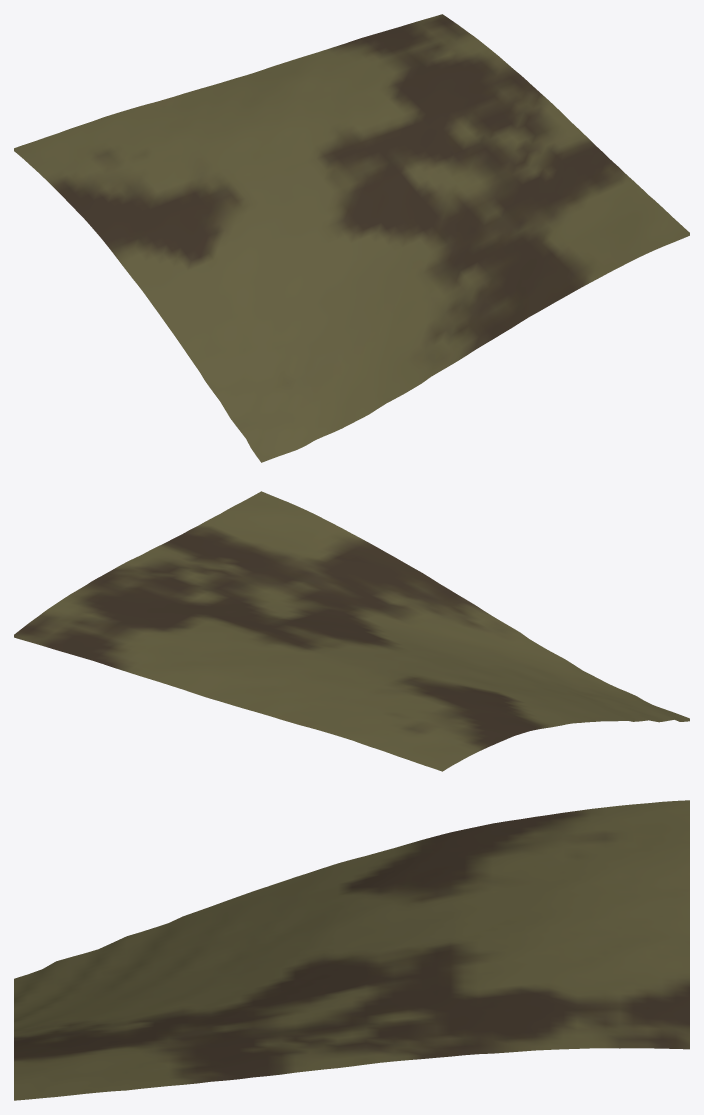
Rendered from land_m_09_02.glb.
The picture shows the model from 3 angles, top to bottom: view 1: azimuth 30°, elevation 25°; view 2: azimuth 150°, elevation 25°; view 3: azimuth 270°, elevation 25°; orthographic projection. The views are drawn at different scales.
Visible parts, largest first — view 1: land_m_09_02; view 2: land_m_09_02; view 3: land_m_09_02.
Part boxes in pixels (x1,y1,x2,y2): land_m_09_02: [14, 14, 689, 462]; land_m_09_02: [14, 491, 689, 771]; land_m_09_02: [14, 800, 689, 1100].
Bounding box in the file's own units: 960 × 351 × 960.
